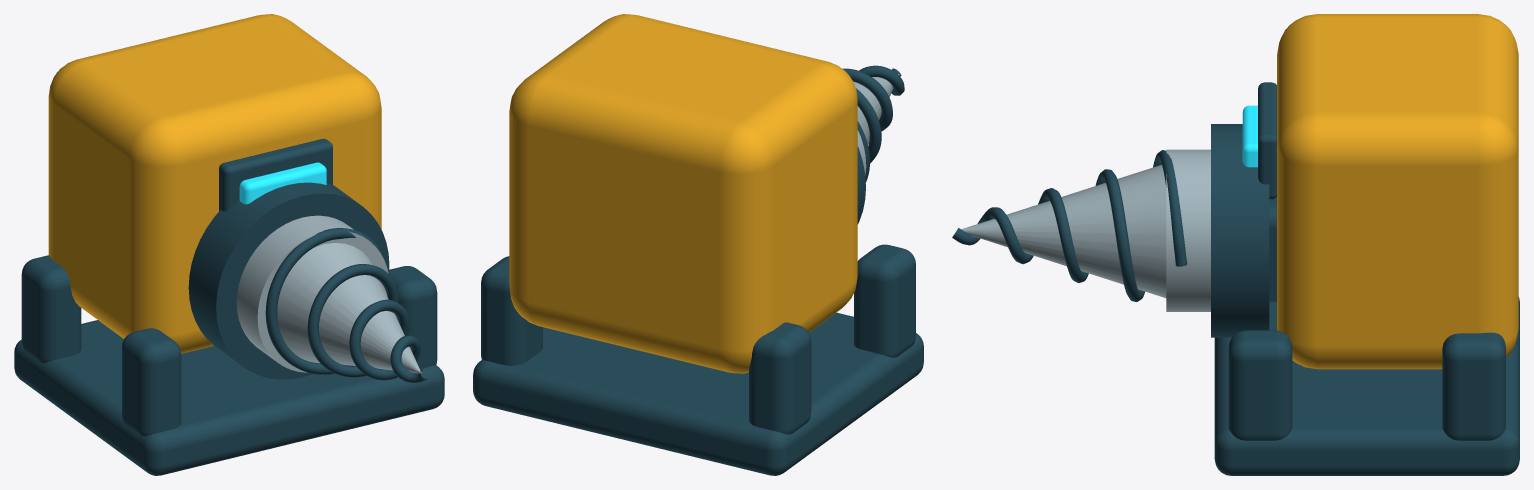
File: mining.glb
3 views of the same model, side by side, from view 1: azimuth 30°, elevation 25°; view 2: azimuth 150°, elevation 25°; view 3: azimuth 270°, elevation 25° (orthographic). The views are drawn at different scales.
Visible parts, largest first — view 1: mining, mining_drill_15; view 2: mining, mining_drill_15; view 3: mining, mining_drill_15.
Boxes of the visible parts, x1,y1,x2,y2 form: mining: [14, 14, 444, 475]; mining_drill_15: [188, 182, 427, 382]; mining: [473, 14, 923, 475]; mining_drill_15: [842, 65, 904, 224]; mining: [1214, 14, 1519, 475]; mining_drill_15: [952, 124, 1269, 337].
Bounding box in the file's own units: 1.45 × 1.47 × 2.23.
